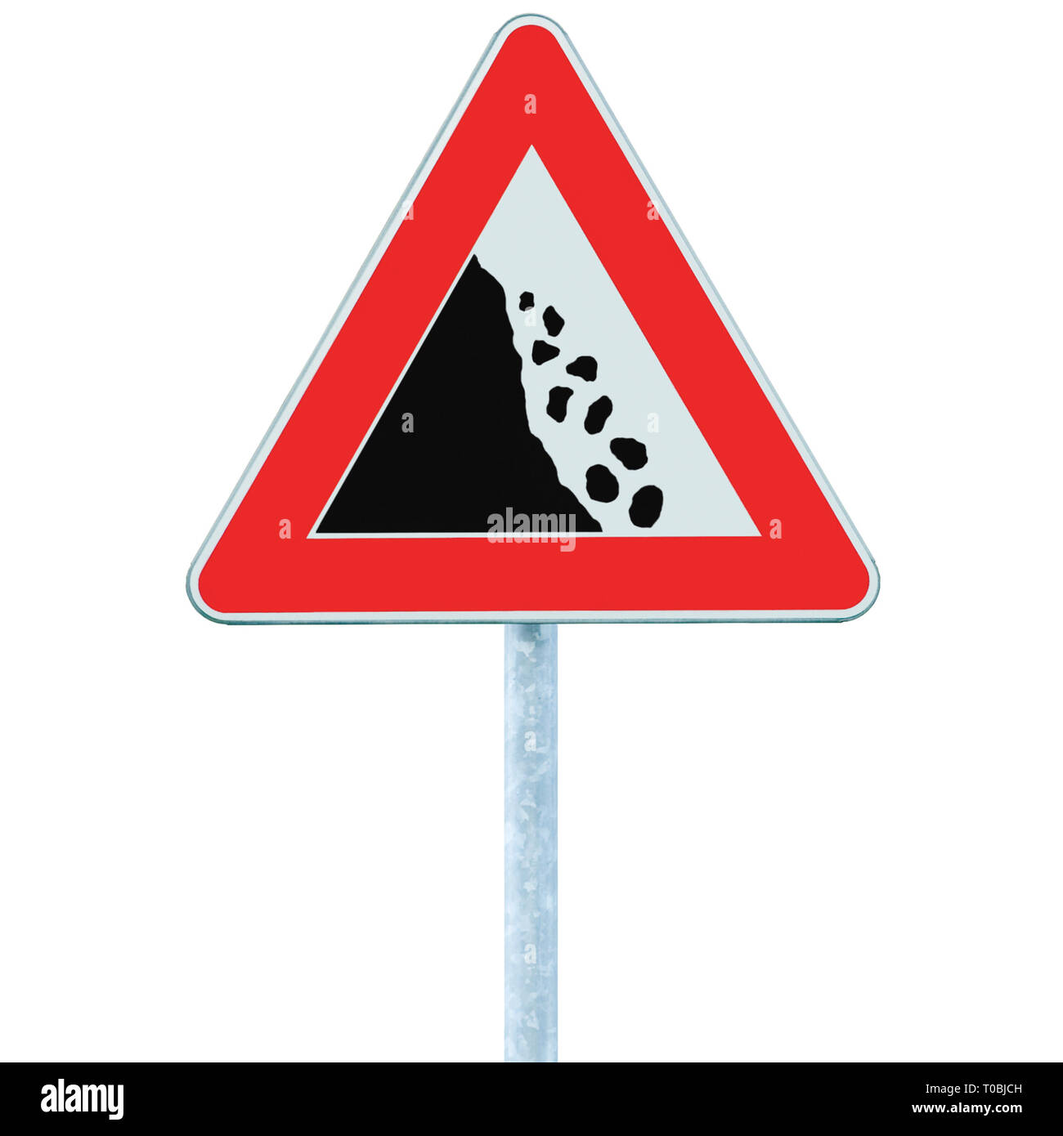FallenSign: (181, 8, 907, 642)
